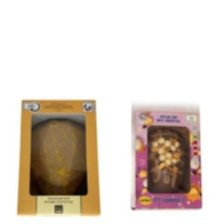book: (10, 94, 105, 220), (124, 103, 207, 218)
